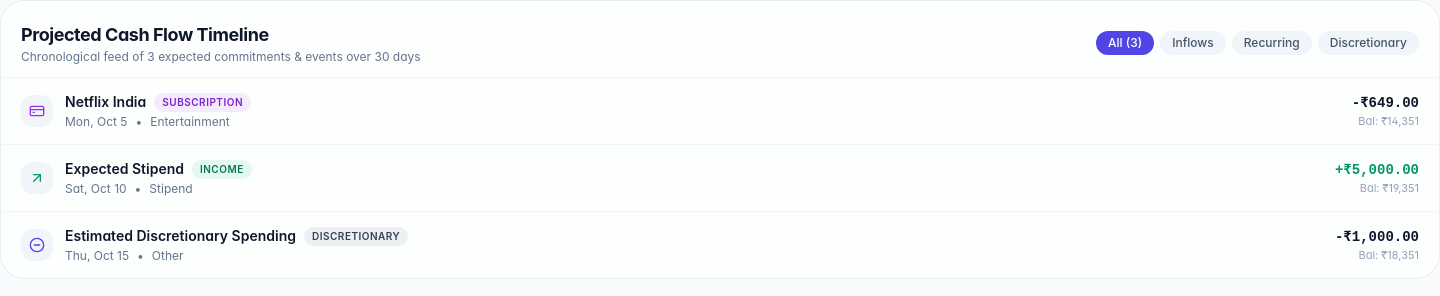
Cash Flow Forecasting & Financial Planning Frontend › renders forecast timeline and allows filtering by event type
Expected: the text "Netflix India" is shown, [65,92,146,112]
Expected: the text "Expected Stipend" is shown, [65,159,184,179]
Note: Filter to only Inflows
Click the button "Inflows" at (1193, 43), box [1160,31,1226,55]
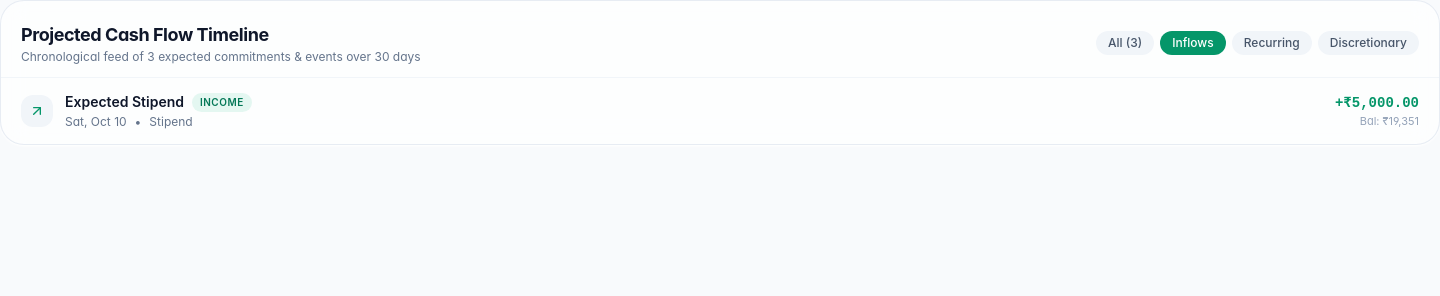
Expected: the text "Expected Stipend" is shown, [65,92,184,112]
Result: the text "Netflix India" is gone
